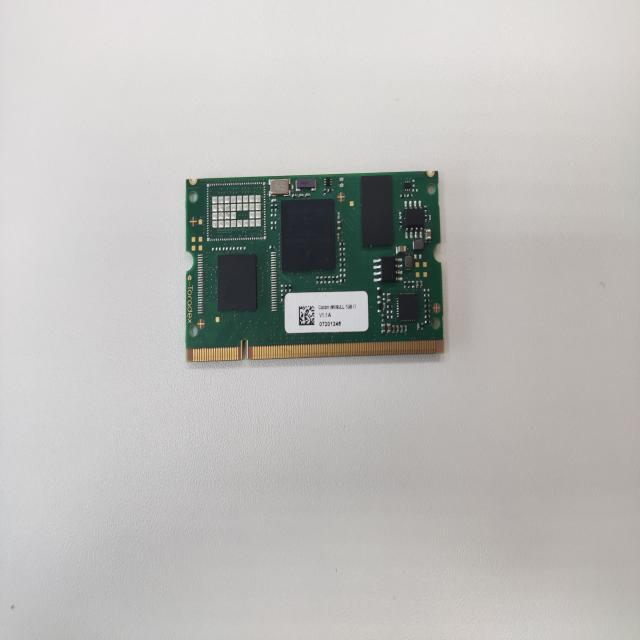som: (179, 165, 449, 358)
